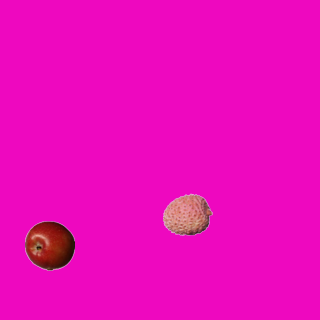Apple Braeburn: (24, 220, 74, 270)
Lychee: (162, 189, 212, 239)
